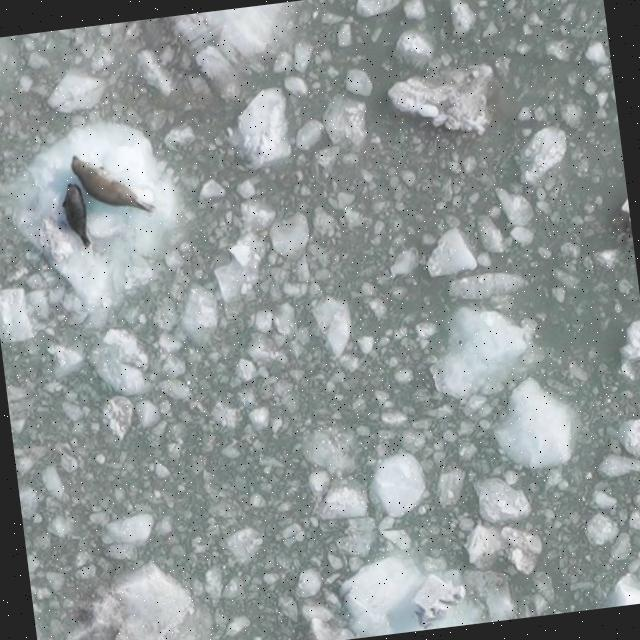seal: (58, 145, 159, 235), (57, 181, 92, 252)
